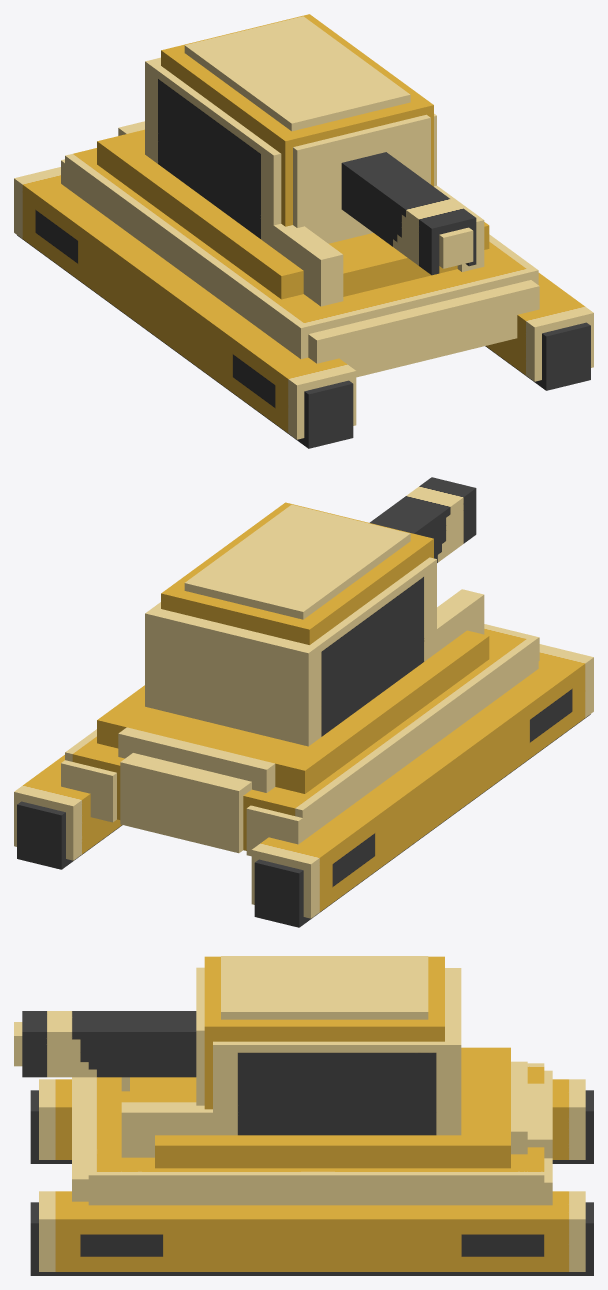
Rendered from Character_16.fbx.
3 views of the same model, one above another, from view 1: azimuth 30°, elevation 25°; view 2: azimuth 150°, elevation 25°; view 3: azimuth 270°, elevation 25° (orthographic). The views are drawn at different scales.
Visible parts, largest first — view 1: Character_16; view 2: Character_16; view 3: Character_16.
Boxes of the visible parts, x1,y1,x2,y2 form: Character_16: [14, 14, 593, 448]; Character_16: [14, 477, 593, 927]; Character_16: [14, 956, 593, 1275].
Bounding box in the file's own units: 40 × 30 × 70.
